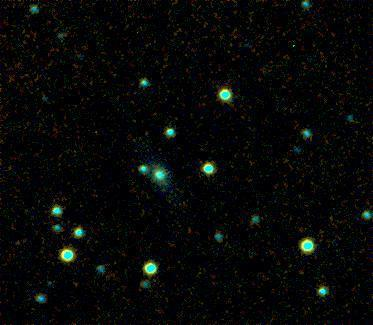star: (129, 117, 159, 147)
